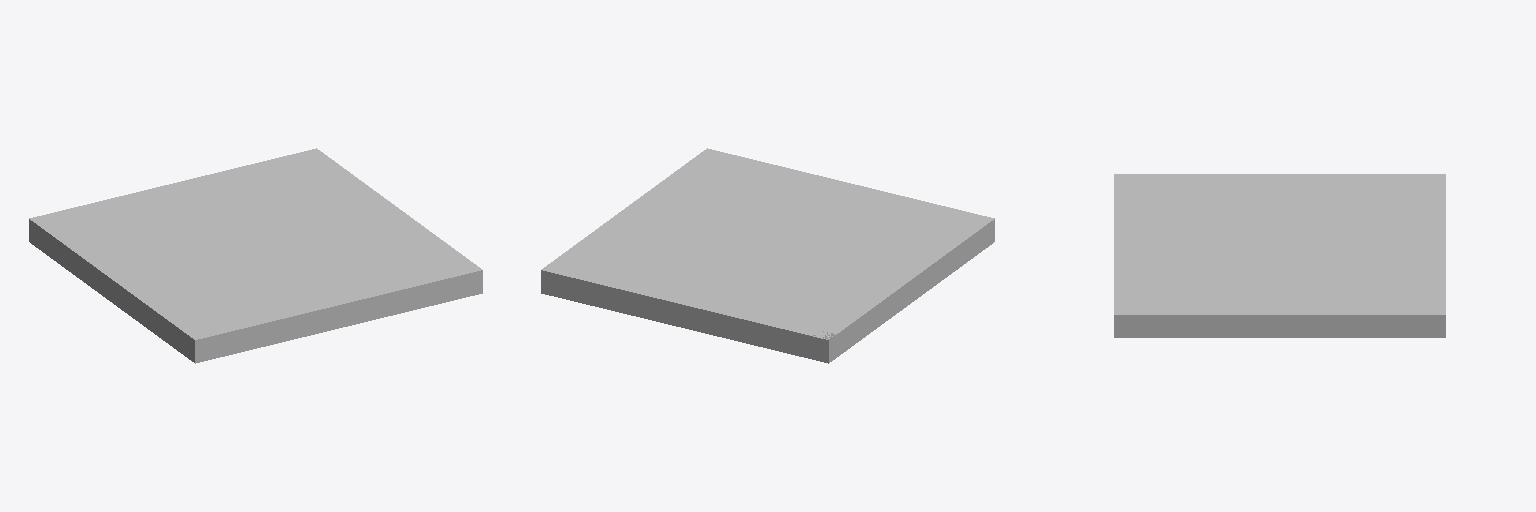
The model's file is zom_dah_doorway_wide_4m.obj.
The picture shows the model from 3 angles: view 1: azimuth 30°, elevation 25°; view 2: azimuth 150°, elevation 25°; view 3: azimuth 270°, elevation 25°; orthographic projection.
Visible parts, largest first — view 1: co_culling, c_box_002, c_box_003; view 2: co_culling, c_box_003, c_box_002; view 3: co_culling.
Boxes of the visible parts, x1=… form: co_culling: x1=29, y1=148, x2=482, y2=363; c_box_002: x1=38, y1=228, x2=245, y2=360; c_box_003: x1=29, y1=221, x2=90, y2=284; co_culling: x1=541, y1=148, x2=994, y2=363; c_box_003: x1=642, y1=297, x2=890, y2=360; c_box_002: x1=778, y1=221, x2=994, y2=360; co_culling: x1=1114, y1=174, x2=1445, y2=337.
Bounding box in the file's own units: 400 × 31 × 400.